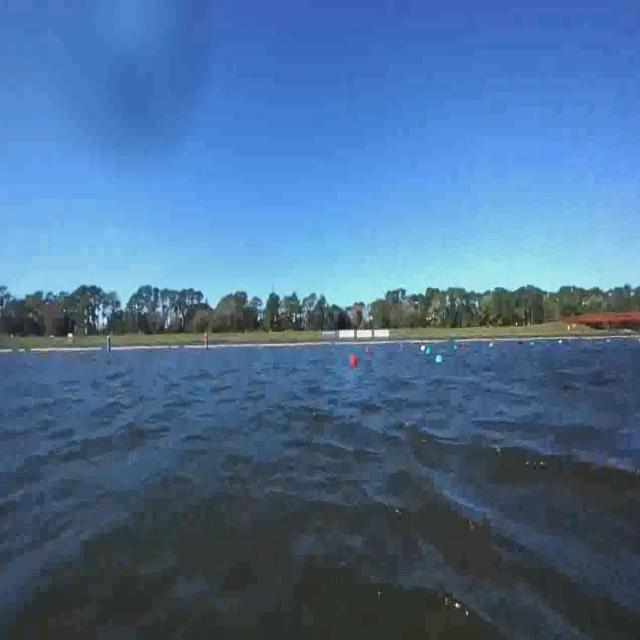green-buoy: (435, 354, 442, 363)
red-buoy: (350, 353, 358, 368)
